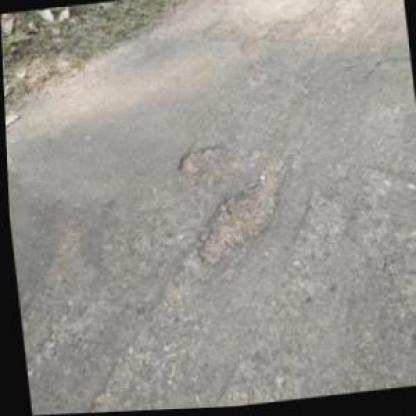pothole: (187, 167, 293, 268), (374, 254, 414, 323), (172, 142, 227, 182)
